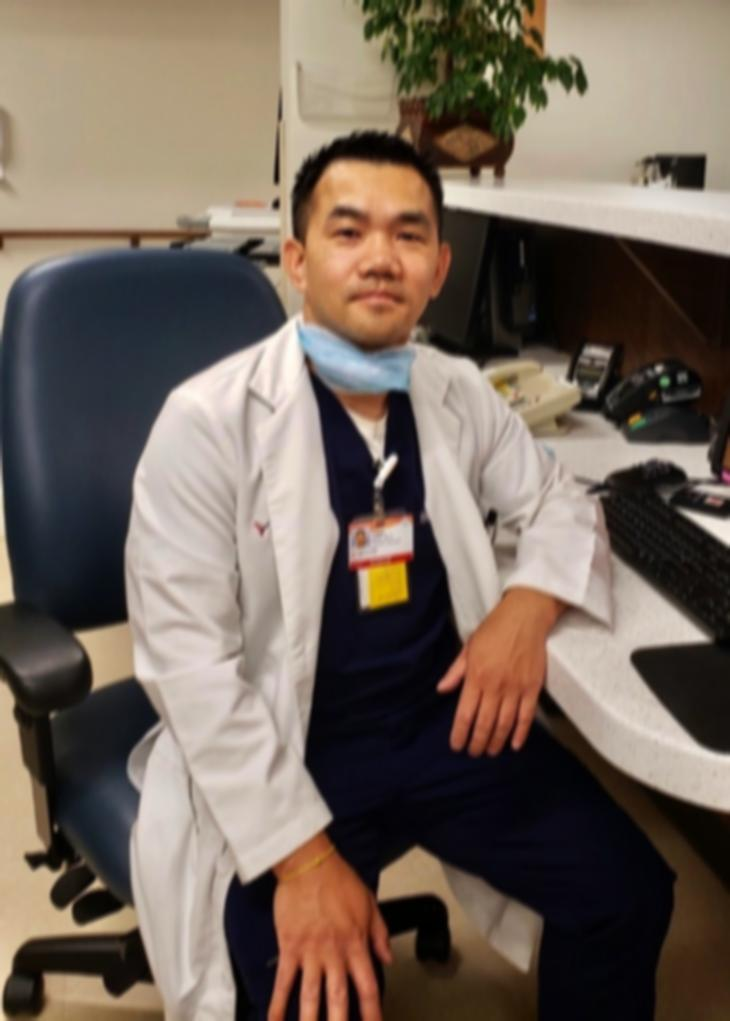mask_weared_incorrect: (283, 130, 448, 366)
